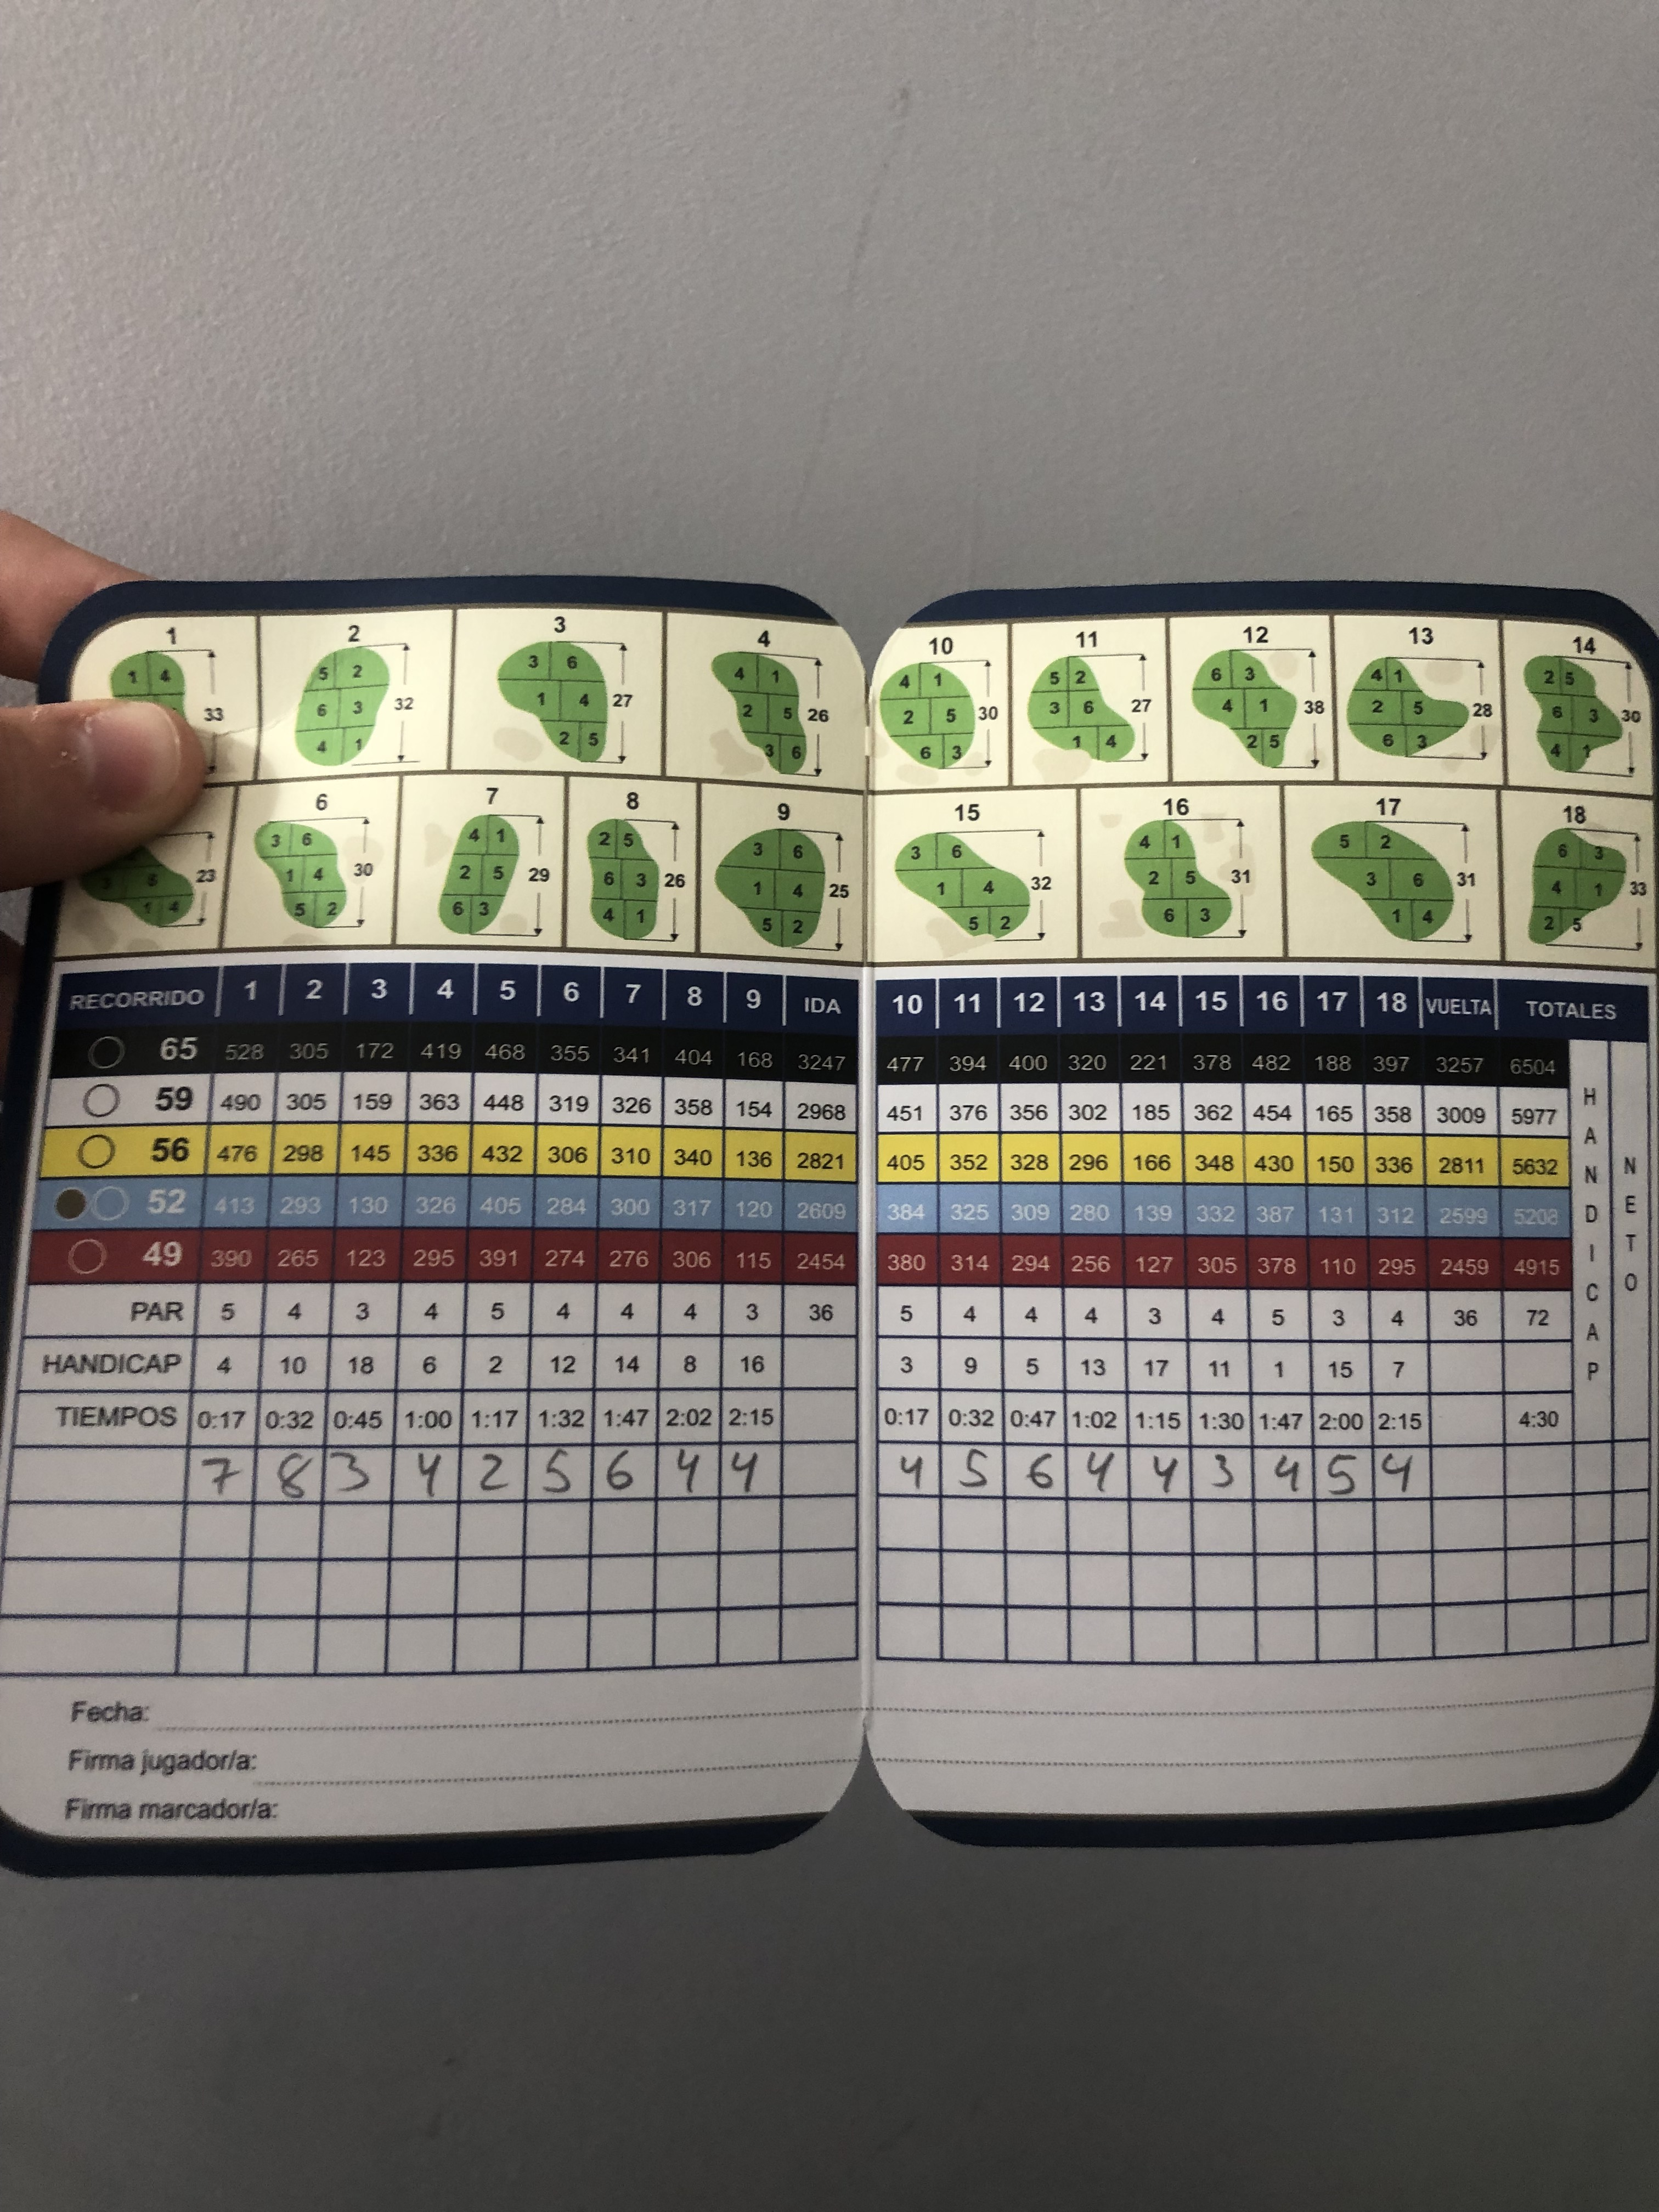par: (113, 1292, 1554, 1334)
score: (181, 1444, 1436, 1501)
